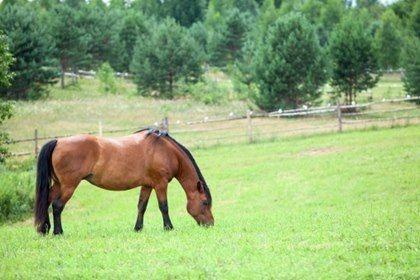horse: (33, 127, 214, 236)
